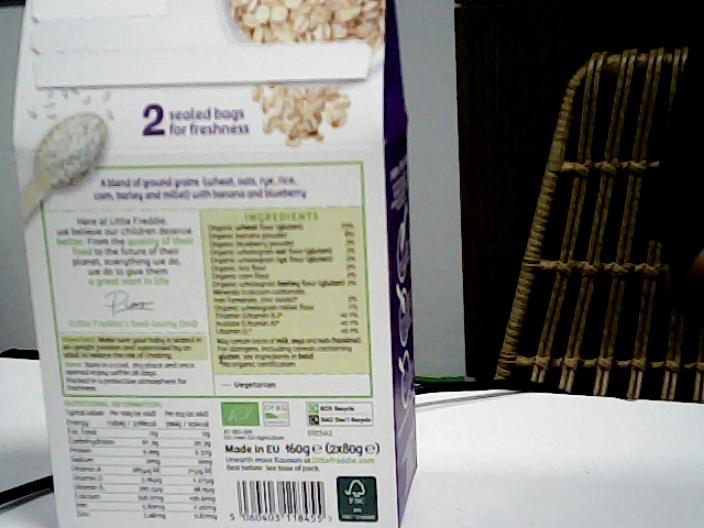Babyfood_100-199g_NonHalal_NonHealthy: (54, 96, 381, 522)
